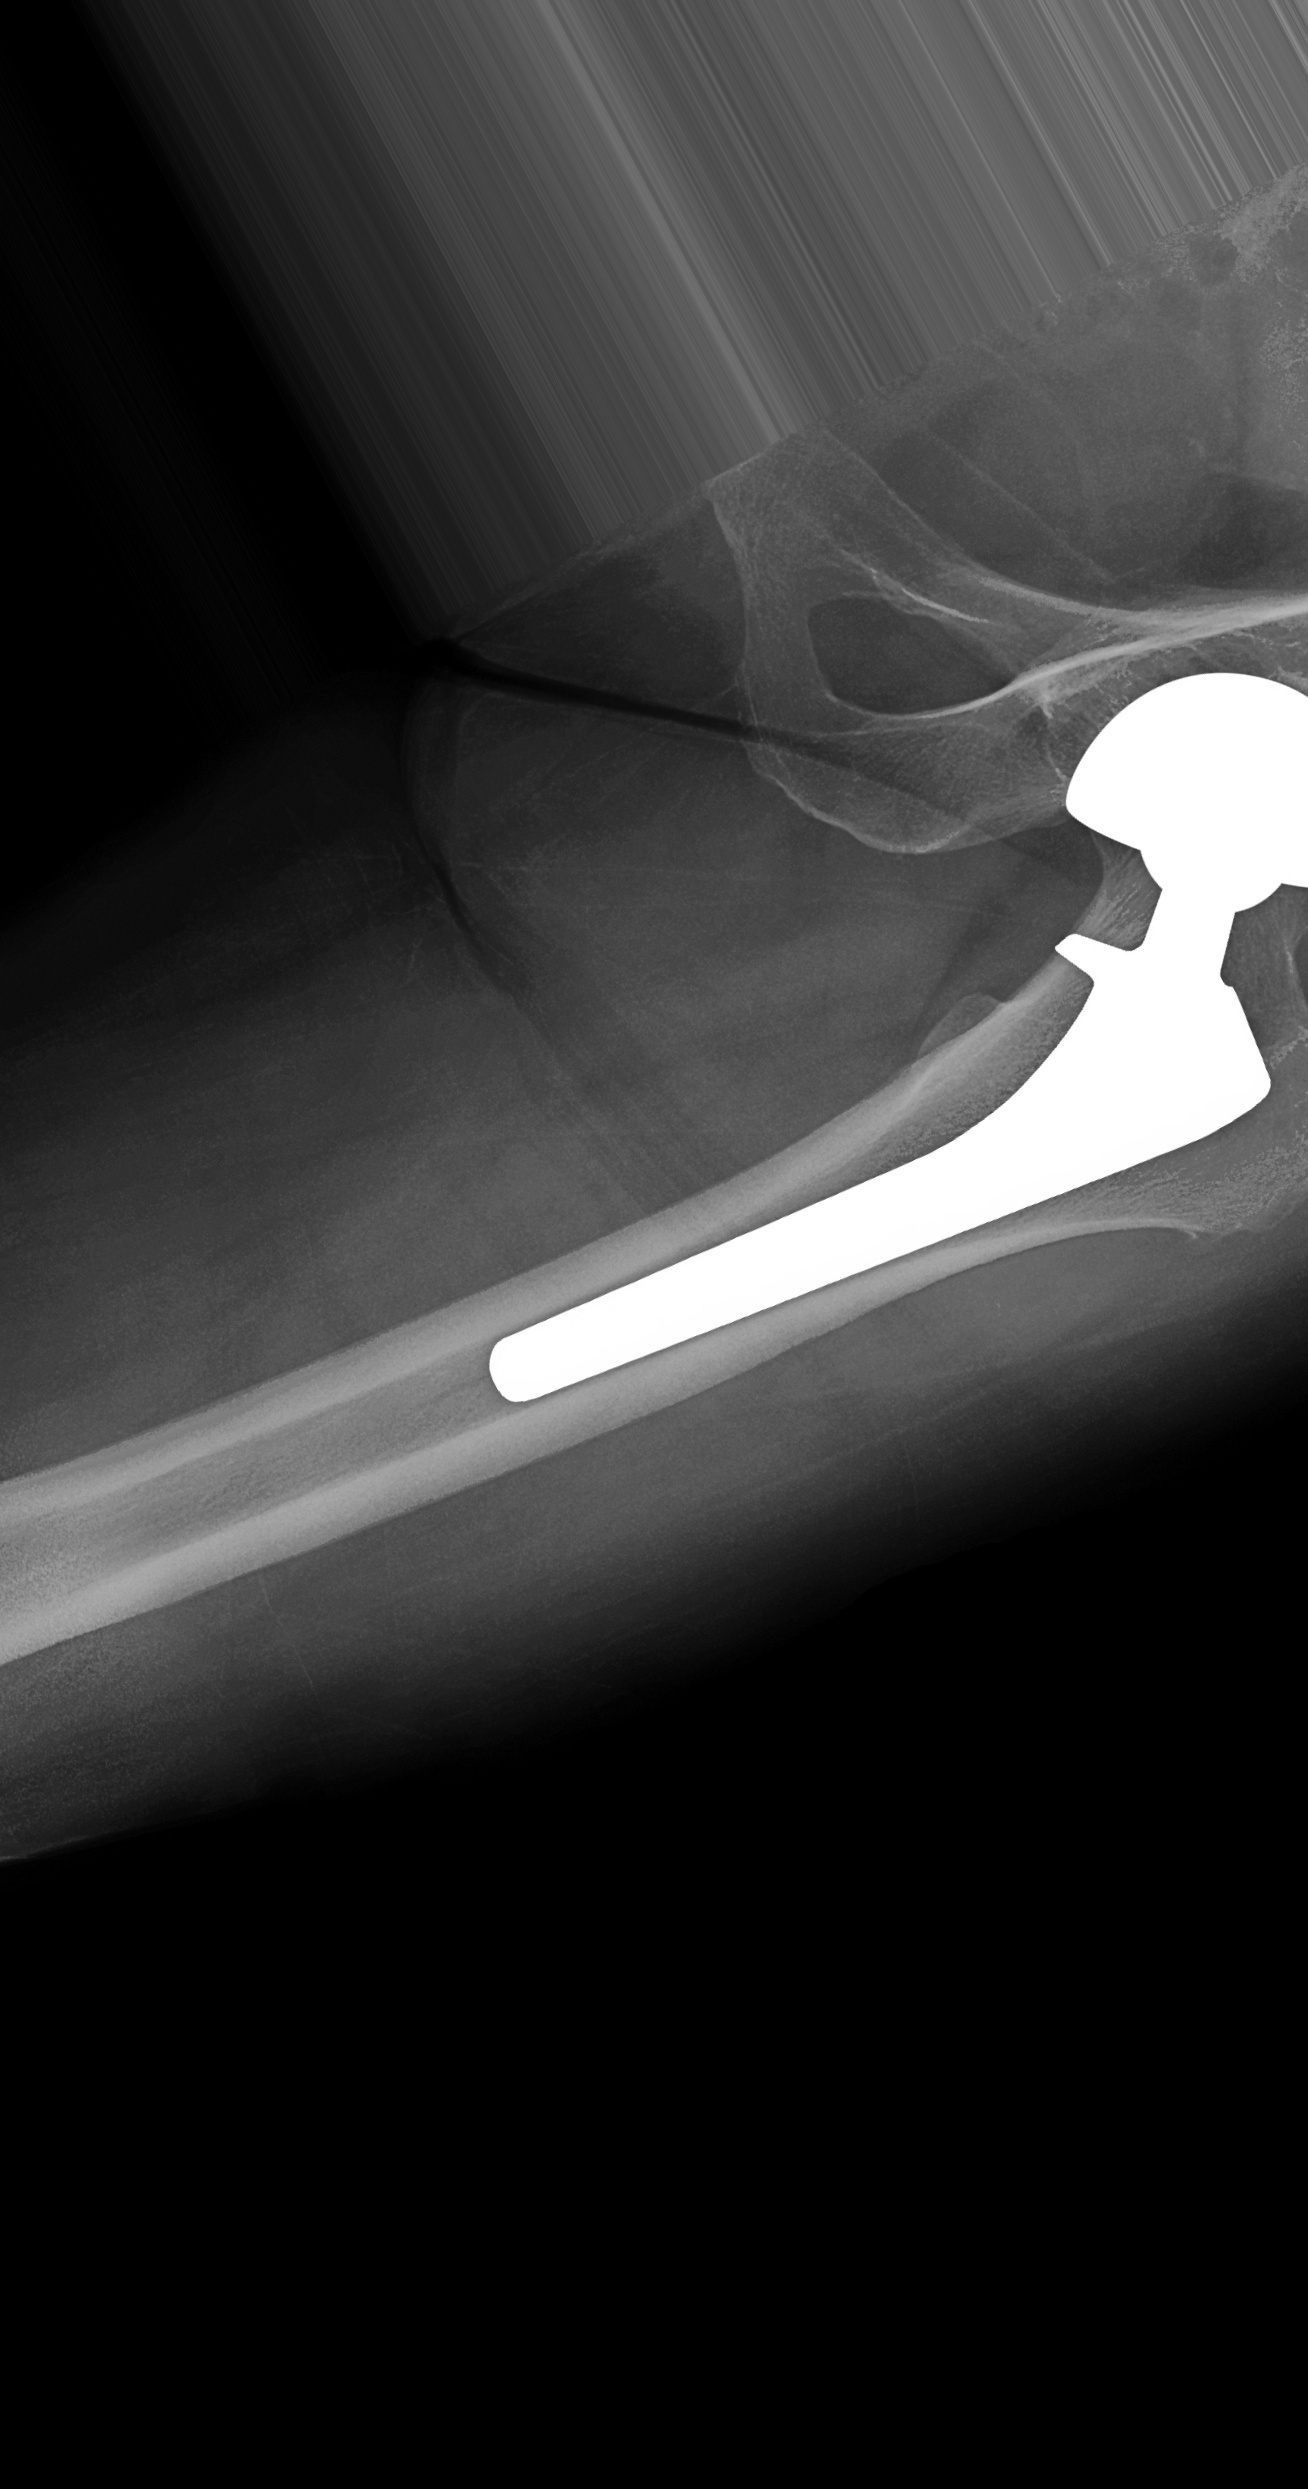Hip - APR - Zimmer: (369, 663, 1308, 1431)
